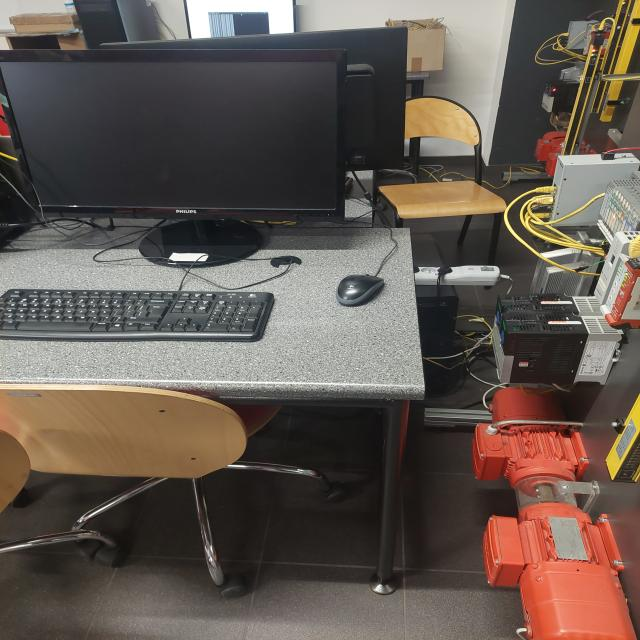mysz: (330, 266, 390, 310)
